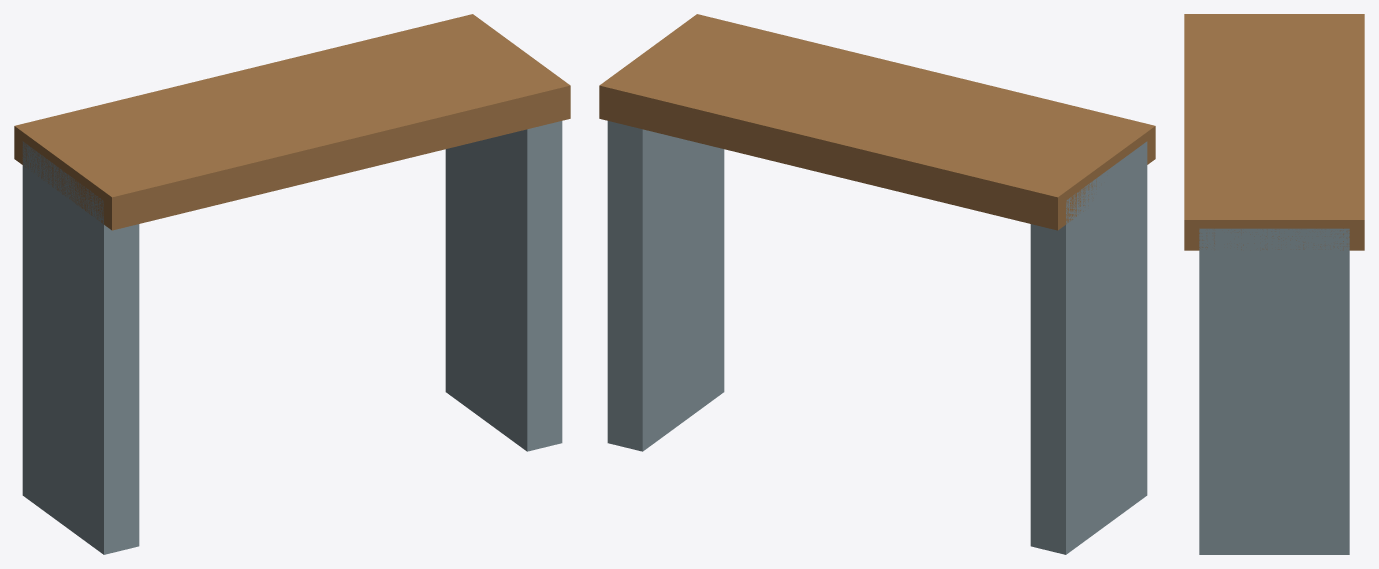
File: arcade.lod1.glb
3 views of the same model, side by side, from view 1: azimuth 30°, elevation 25°; view 2: azimuth 150°, elevation 25°; view 3: azimuth 270°, elevation 25° (orthographic). The views are drawn at different scales.
Visible parts, largest first — view 1: structure; view 2: structure; view 3: structure.
Boxes of the visible parts, x1,y1,x2,y2 form: structure: (14, 14, 570, 554); structure: (599, 14, 1155, 554); structure: (1184, 14, 1364, 554).
Bounding box in the file's own units: 6.5 × 4.92 × 2.4.
